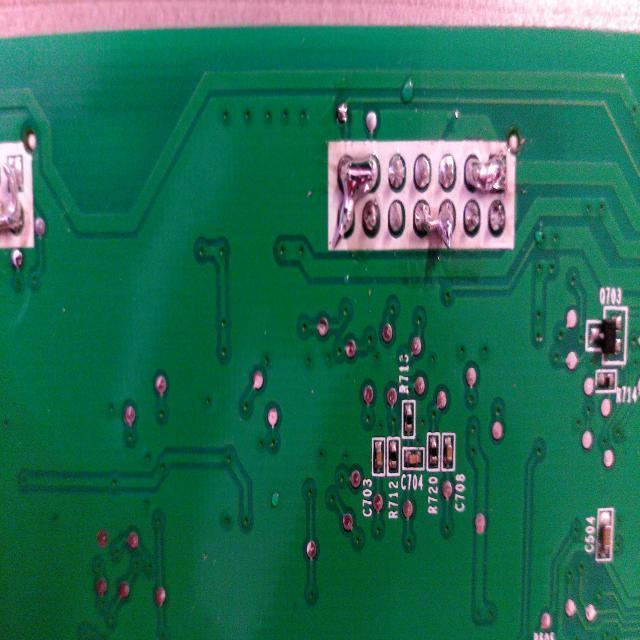Soldering shorted: (334, 154, 381, 244), (0, 155, 31, 235), (463, 150, 511, 200), (412, 199, 458, 241)
